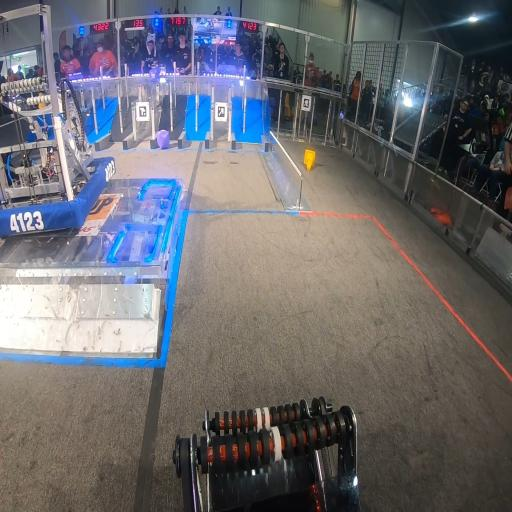robot: (0, 0, 117, 236)
